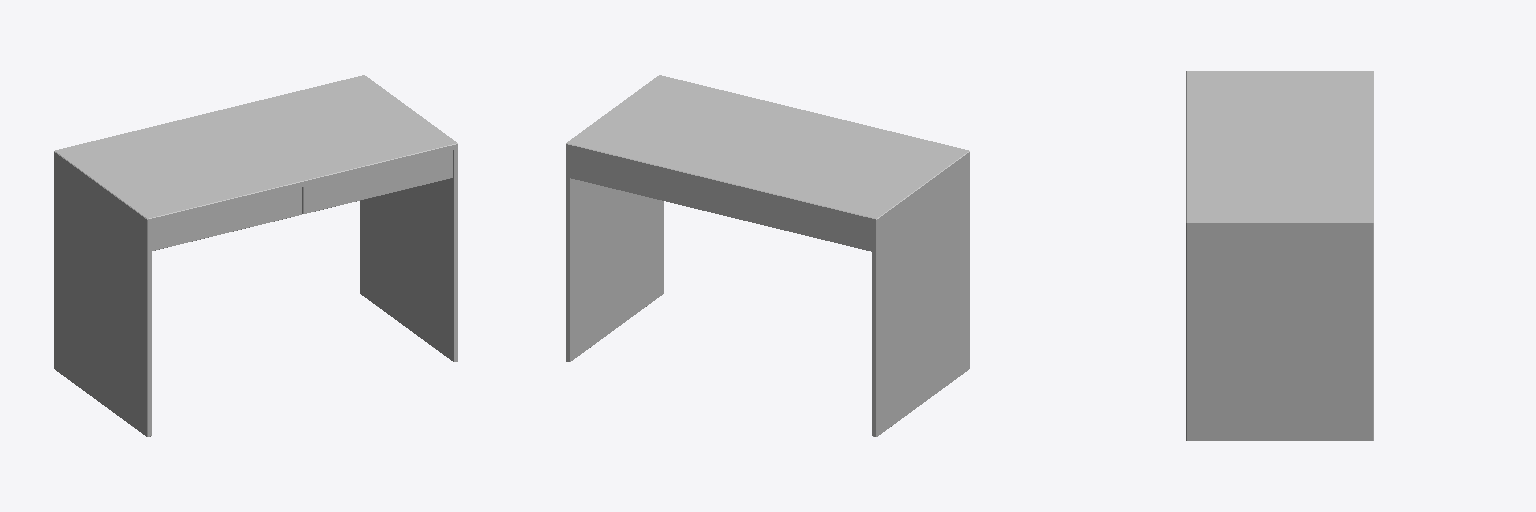
File: wood_desk.obj
3 views of the same model, side by side, from view 1: azimuth 30°, elevation 25°; view 2: azimuth 150°, elevation 25°; view 3: azimuth 270°, elevation 25° (orthographic).
Parts seen in each view (by area): view 1: Working_Desk; view 2: Working_Desk; view 3: Working_Desk.
Part boxes in pixels (x1,y1,x2,y2): Working_Desk: (54,75,457,436); Working_Desk: (566,75,969,436); Working_Desk: (1186,71,1373,440).
Size of the model in its own units: 1.15 by 0.77 by 0.6.